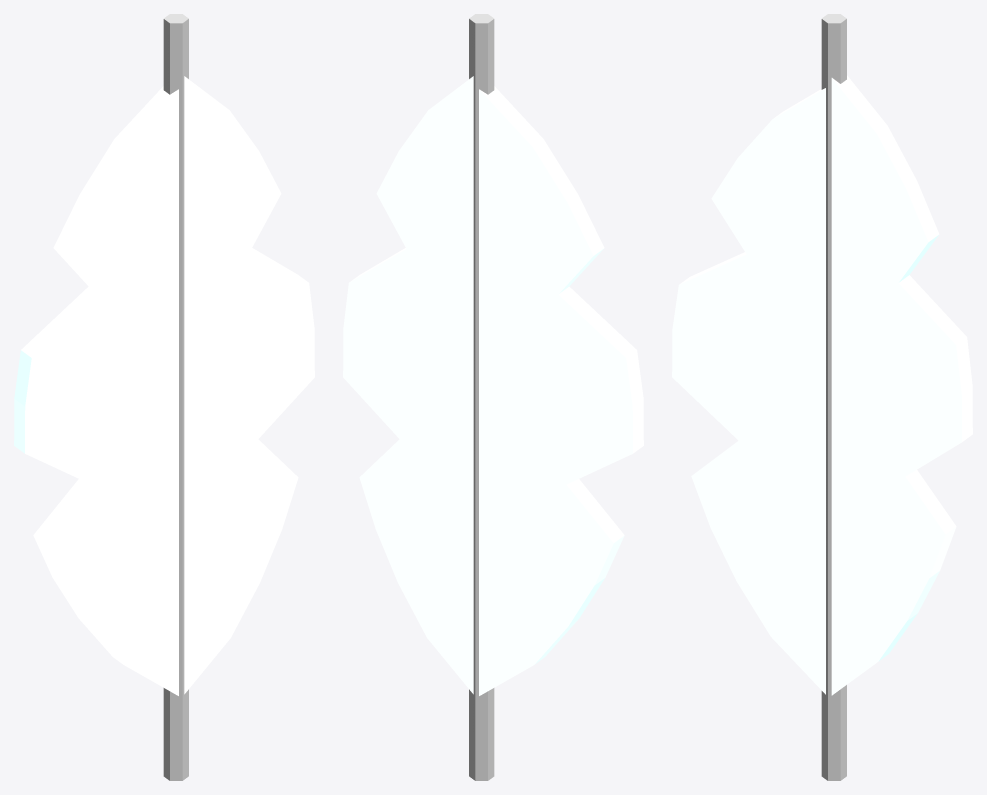
Rendered from Feather.fbx.
The picture shows the model from 3 angles, left to right: view 1: azimuth 30°, elevation 25°; view 2: azimuth 150°, elevation 25°; view 3: azimuth 330°, elevation 25°; orthographic projection.
Visible parts, largest first — view 1: Feather; view 2: Feather; view 3: Feather.
Boxes of the visible parts, x1,y1,x2,y2 form: Feather: (14, 14, 314, 780); Feather: (343, 14, 643, 780); Feather: (672, 14, 972, 780).
Bounding box in the file's own units: 0.3682 × 0.92 × 0.028.
